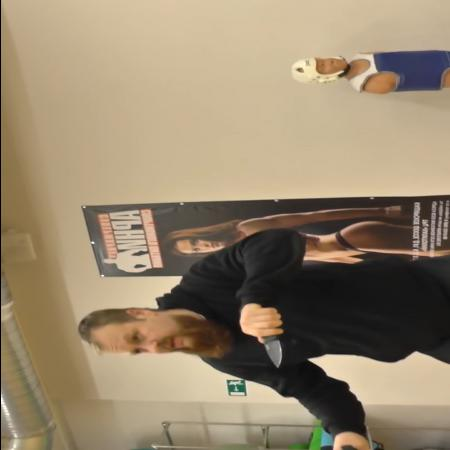long weapon: (236, 315, 286, 371)
